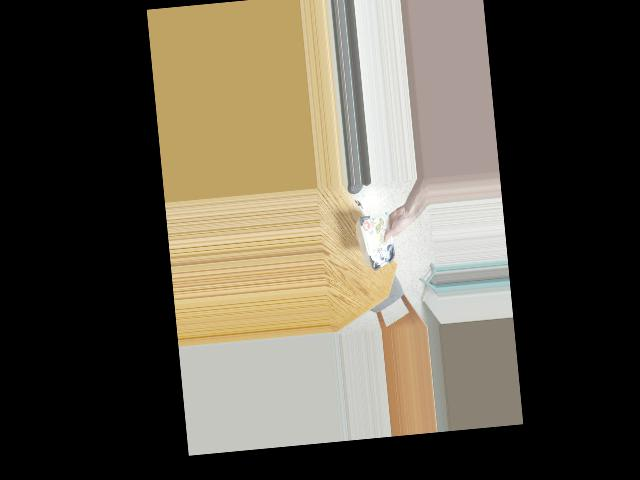cheese: (357, 213, 401, 268)
